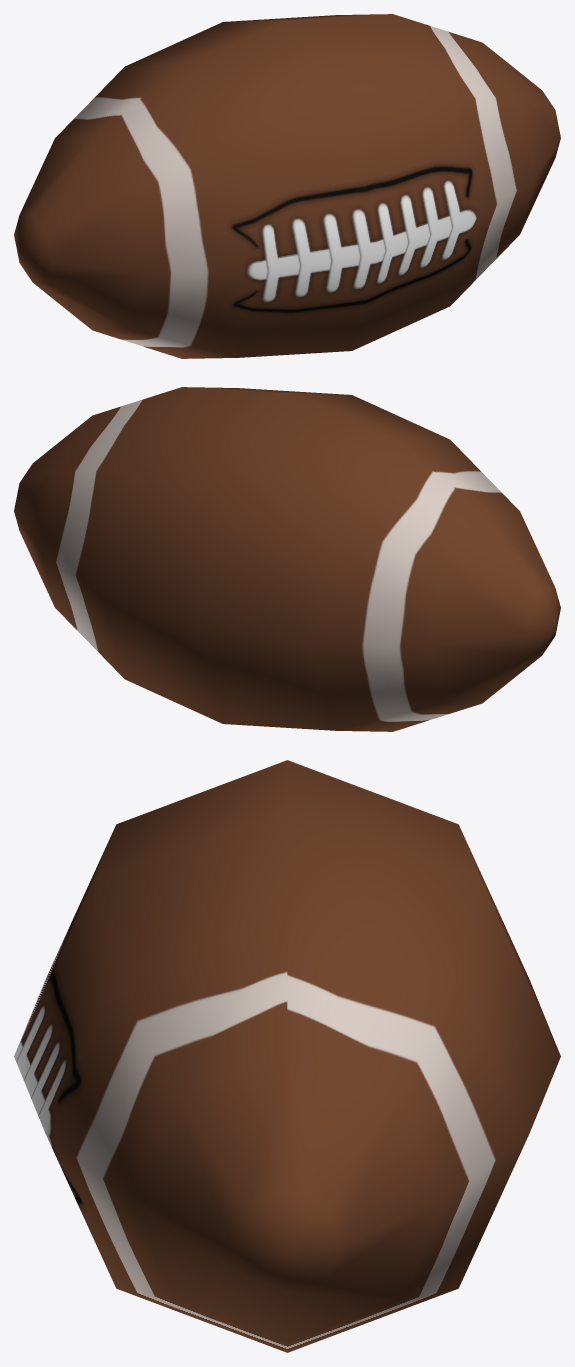
File: Football.fbx
3 renders of one model, top to bottom at view 1: azimuth 30°, elevation 25°; view 2: azimuth 150°, elevation 25°; view 3: azimuth 270°, elevation 25°, orthographic. The views are drawn at different scales.
Parts seen in each view (by area): view 1: americanFootball; view 2: americanFootball; view 3: americanFootball.
Part boxes in pixels (x1,y1,x2,y2): americanFootball: (14,14,560,358); americanFootball: (14,387,560,731); americanFootball: (14,760,560,1352).
Bounding box in the file's own units: 2.88 × 1.7 × 1.7.
